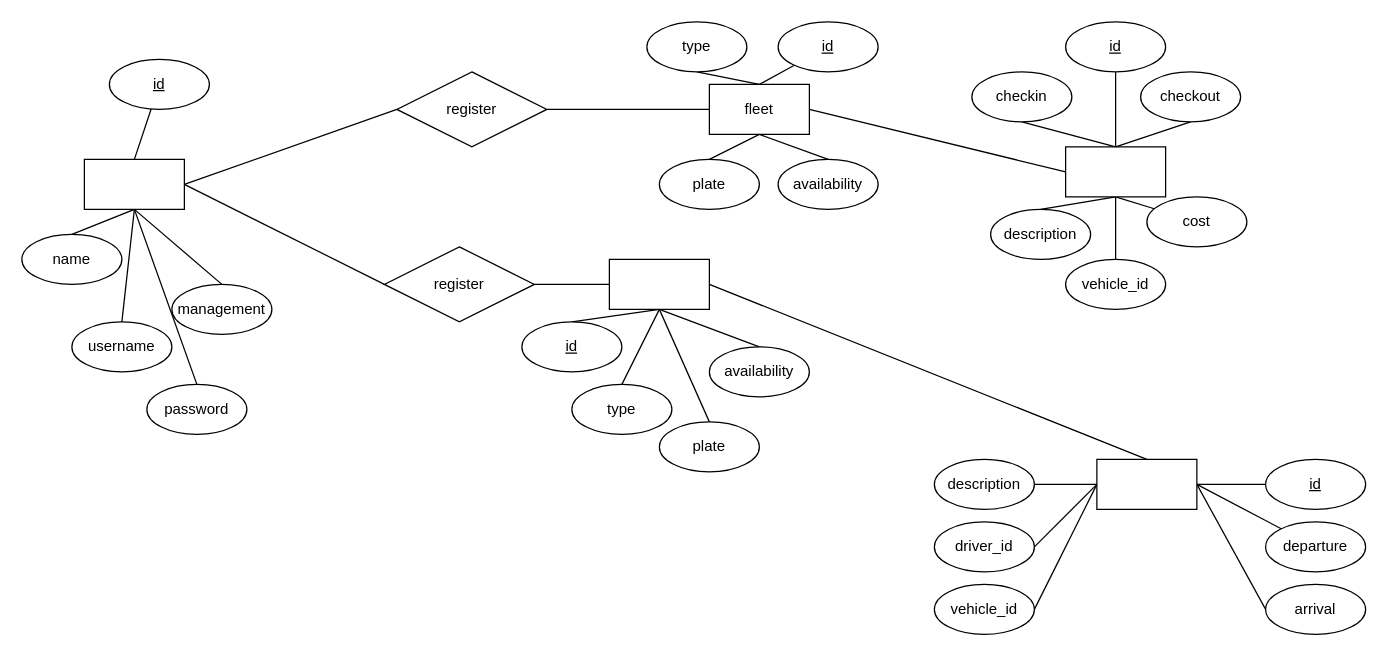
Image size: 1388x656. Some labels were removed from this diagram. Each missing label, with the centre of its shape:
"drivers" goes at (658,283).
"maintenance" goes at (1115,171).
"operations" goes at (1146,483).
"users" goes at (133,183).
